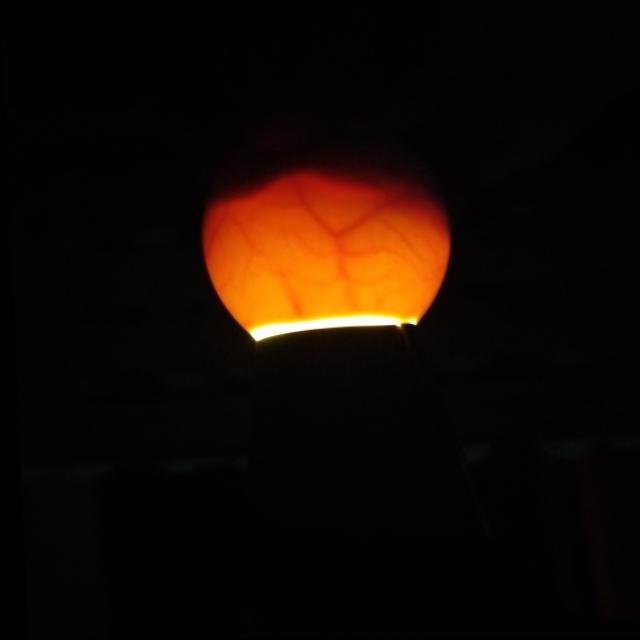Embriao: (208, 113, 460, 231)
